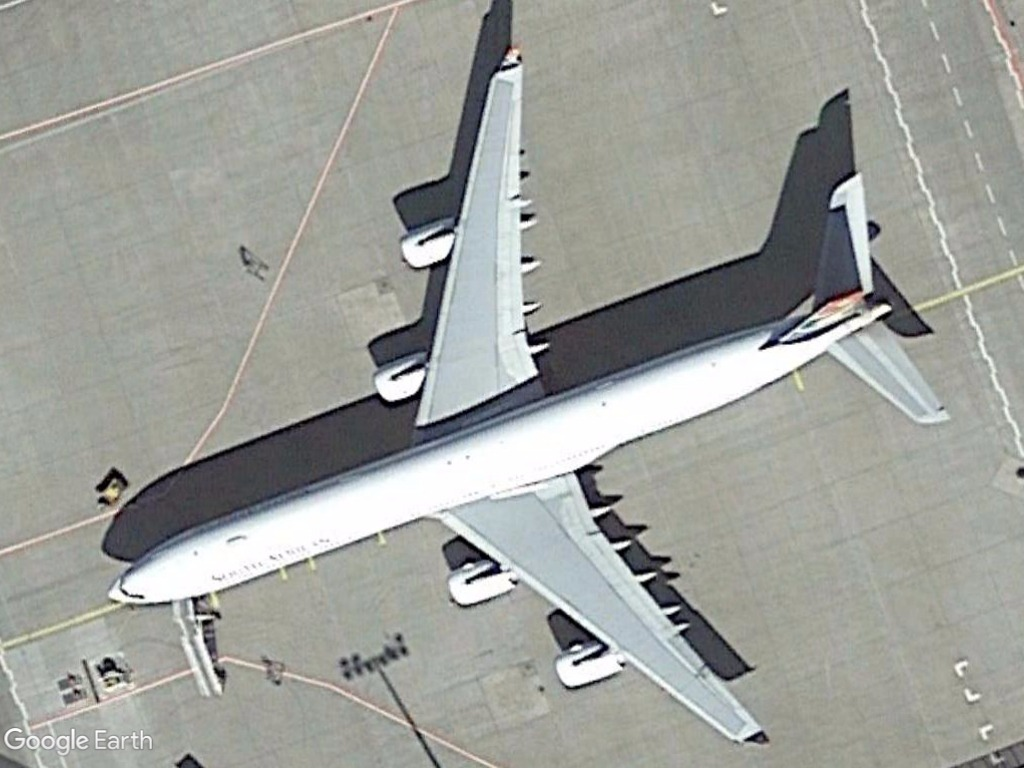airliner: (90, 35, 965, 757)
